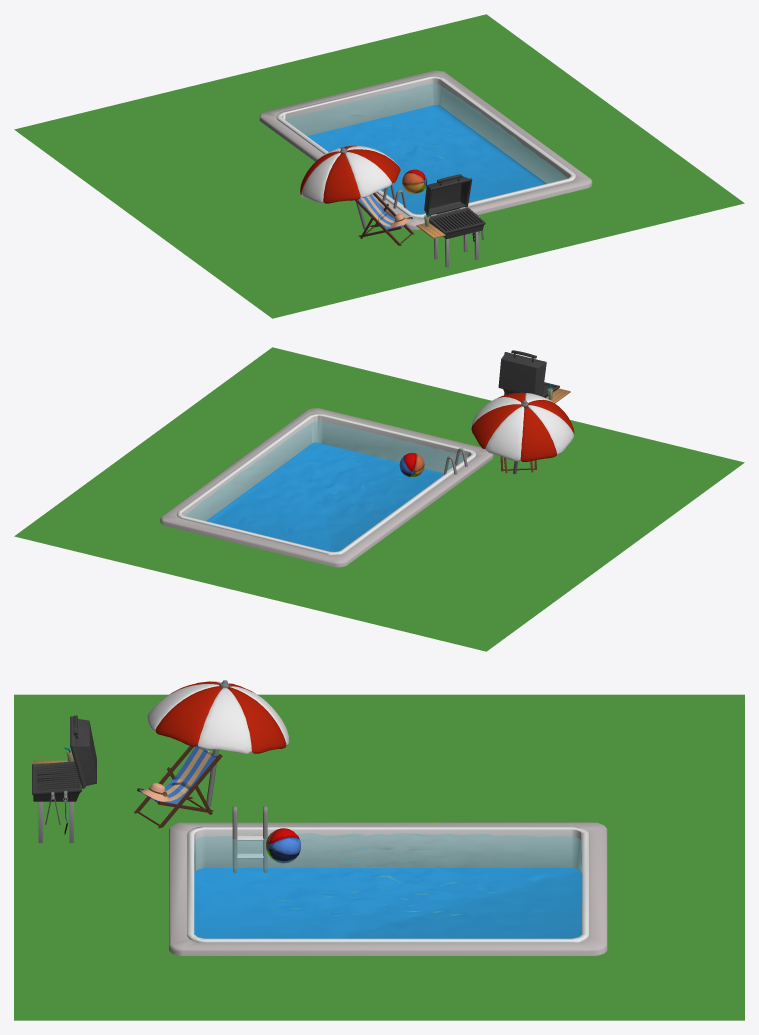
The picture shows the model from 3 angles, top to bottom: view 1: azimuth 30°, elevation 25°; view 2: azimuth 150°, elevation 25°; view 3: azimuth 270°, elevation 25°; orthographic projection. The views are drawn at different scales.
Parts seen in each view (by area): view 1: Plane, Cube.272, Cylinder.002, Cube.276, Cube.274, Cube, Cube.284; view 2: Plane, Cube.272, Cylinder.002, Cube.274, Cube.284; view 3: Plane, Cube.272, Cylinder.002, Cube, Cube.276, Cube.274, Cube.284.
Part boxes in pixels (left/top/right/bottom): Plane: left=14, top=14, right=744, bottom=318; Cube.272: left=259, top=70, right=592, bottom=229; Cylinder.002: left=300, top=145, right=400, bottom=229; Cube.276: left=416, top=207, right=485, bottom=267; Cube.274: left=424, top=174, right=472, bottom=216; Cube: left=355, top=193, right=414, bottom=245; Cube.284: left=402, top=169, right=427, bottom=194; Plane: left=14, top=347, right=744, bottom=651; Cube.272: left=160, top=408, right=493, bottom=567; Cylinder.002: left=471, top=392, right=574, bottom=474; Cube.274: left=498, top=350, right=546, bottom=396; Cube.284: left=399, top=453, right=424, bottom=477; Plane: left=14, top=694, right=744, bottom=1020; Cube.272: left=169, top=806, right=607, bottom=955; Cylinder.002: left=146, top=680, right=289, bottom=806; Cube: left=134, top=745, right=222, bottom=828; Cube.276: left=32, top=760, right=81, bottom=842; Cube.274: left=70, top=715, right=96, bottom=788; Cube.284: left=266, top=828, right=300, bottom=863.
Bounding box in the file's own units: 969 × 212 × 918.
